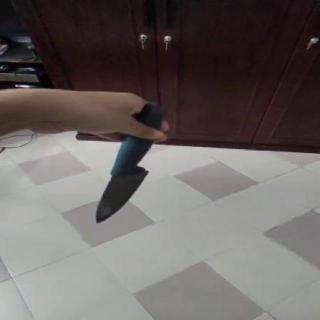knife: (82, 153, 176, 231)
